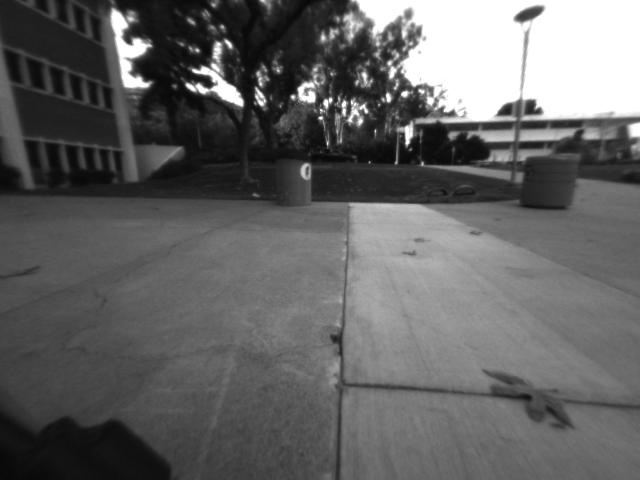trashcan: (520, 148, 581, 217), (267, 145, 320, 210)
